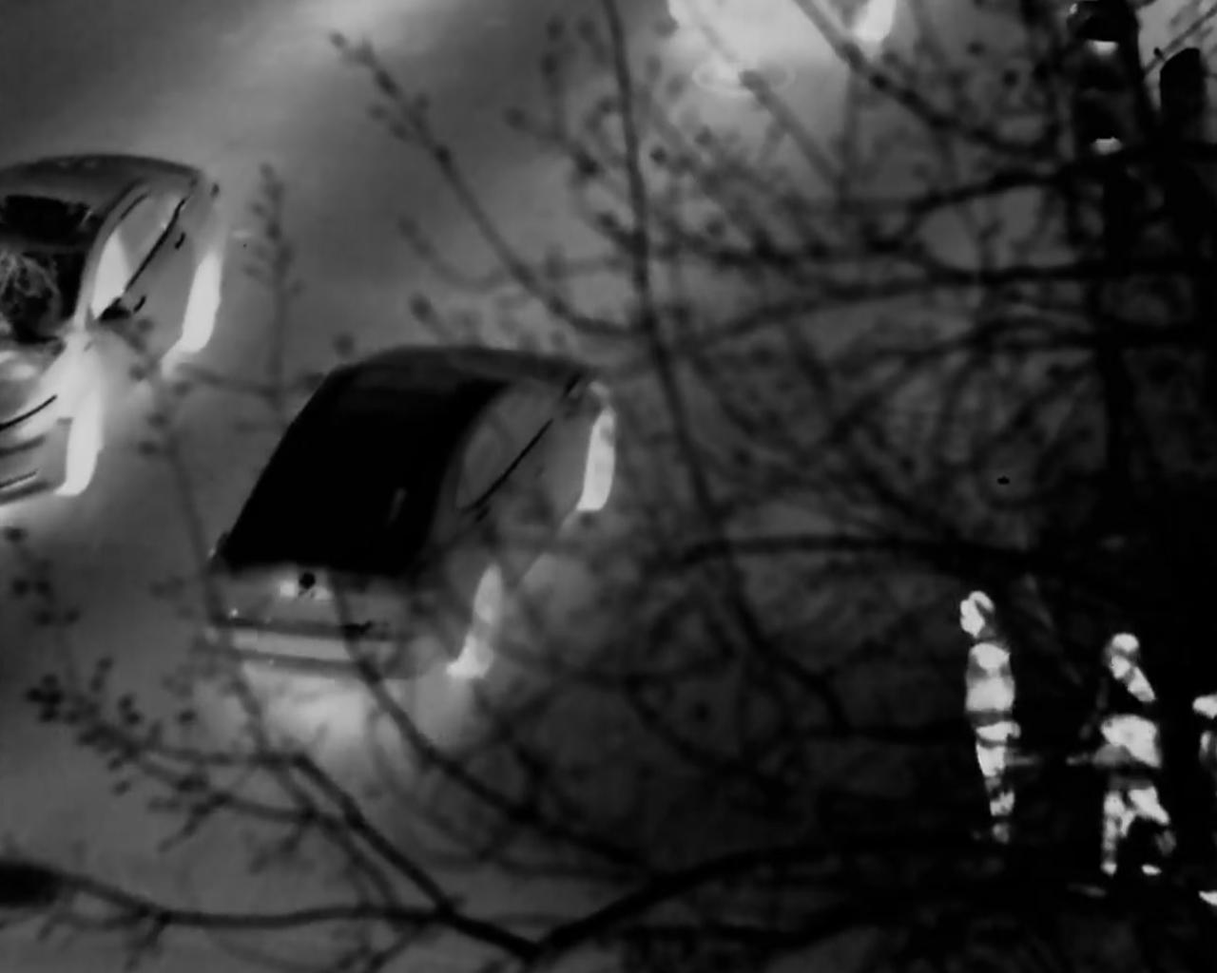person: (1092, 625, 1169, 883), (954, 583, 1030, 834)
